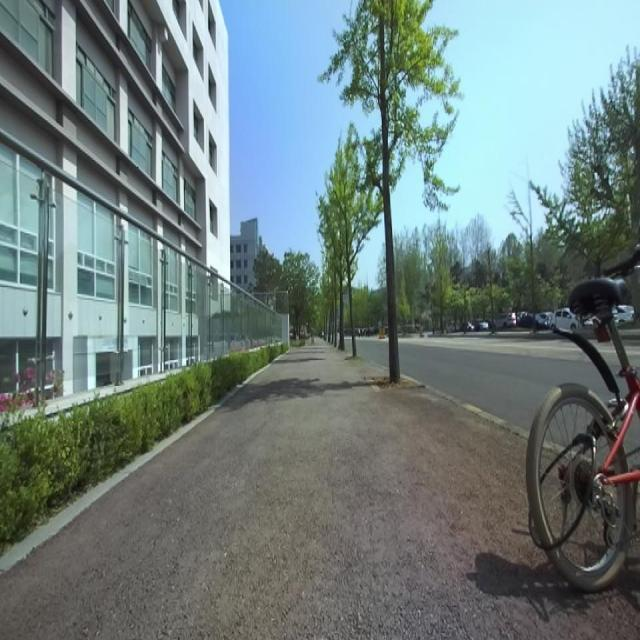sidewalk: (1, 341, 640, 639), (410, 379, 530, 439)
